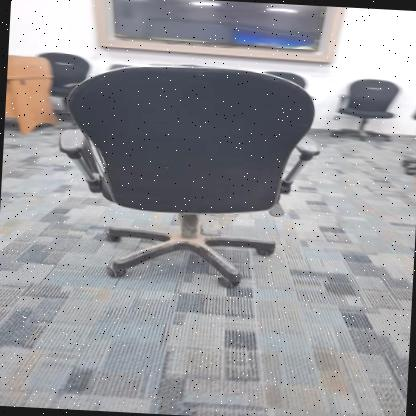chair: (43, 46, 326, 302)
